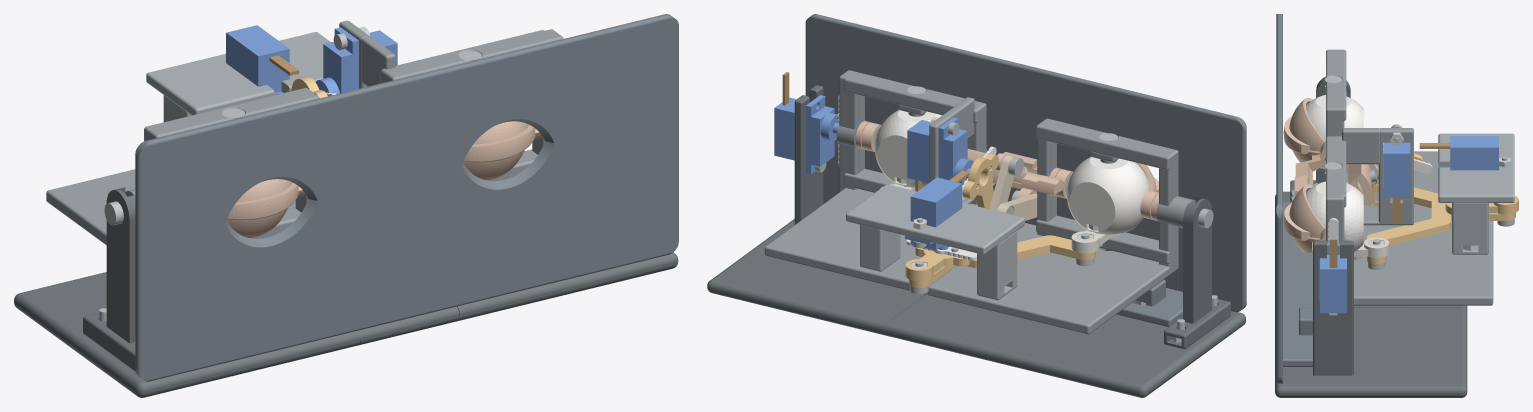
File: assembly.glb
The picture shows the model from 3 angles, left to right: view 1: azimuth 30°, elevation 25°; view 2: azimuth 150°, elevation 25°; view 3: azimuth 270°, elevation 25°; orthographic projection. The views are drawn at different scales.
Visible parts, largest first — view 1: mask, base_L, yaw_mount, frame_L, pivot_bracket, frame_R, base_R, servo_yaw, servo_lid, lid_up_R, lid_up_L, lid_lo_L (+1 smaller); view 2: mask, frame_L, base_L, frame_R, base_R, yaw_mount, eye_L, pivot_bracket, servo_pitch, servo_lid, eye_R, servo_yaw (+9 smaller); view 3: base_R, frame_R, mask, yaw_mount, frame_L, coupler, lid_up_R, servo_yaw, eye_R, servo_lid, servo_pitch, lid_up_L (+11 smaller).
Boxes of the visible parts, box(x1,y1,x2,y2) form: mask: box(135, 14, 678, 381); base_L: box(14, 272, 459, 397); yaw_mount: box(146, 32, 330, 122); frame_L: box(46, 87, 319, 245); pivot_bracket: box(83, 187, 135, 371); frame_R: box(339, 20, 563, 181); base_R: box(359, 252, 678, 345); servo_yaw: box(226, 25, 289, 94); servo_lid: box(315, 27, 397, 94); lid_up_R: box(463, 121, 535, 162); lid_up_L: box(227, 179, 298, 220); lid_lo_L: box(227, 186, 308, 238); mask: box(805, 14, 1246, 327); frame_L: box(927, 118, 1195, 334); base_L: box(884, 294, 1245, 397); frame_R: box(764, 70, 987, 294); base_R: box(707, 85, 965, 354); yaw_mount: box(846, 184, 1024, 300); eye_L: box(1066, 156, 1149, 234); pivot_bracket: box(1164, 197, 1230, 349); servo_pitch: box(774, 95, 838, 174); servo_lid: box(907, 117, 973, 184); eye_R: box(874, 110, 941, 187); servo_yaw: box(905, 177, 962, 250); base_R: box(1275, 240, 1467, 397); frame_R: box(1326, 128, 1493, 305); mask: box(1276, 14, 1319, 383); yaw_mount: box(1438, 133, 1514, 254); frame_L: box(1326, 49, 1493, 226); coupler: box(1367, 187, 1515, 264); lid_up_R: box(1283, 164, 1372, 240); servo_yaw: box(1450, 136, 1499, 170); eye_R: box(1306, 181, 1363, 251); servo_lid: box(1383, 142, 1410, 197); servo_pitch: box(1320, 243, 1346, 313); lid_up_L: box(1283, 98, 1354, 180).
Bounding box in the file's own units: 218 × 98 × 113.
